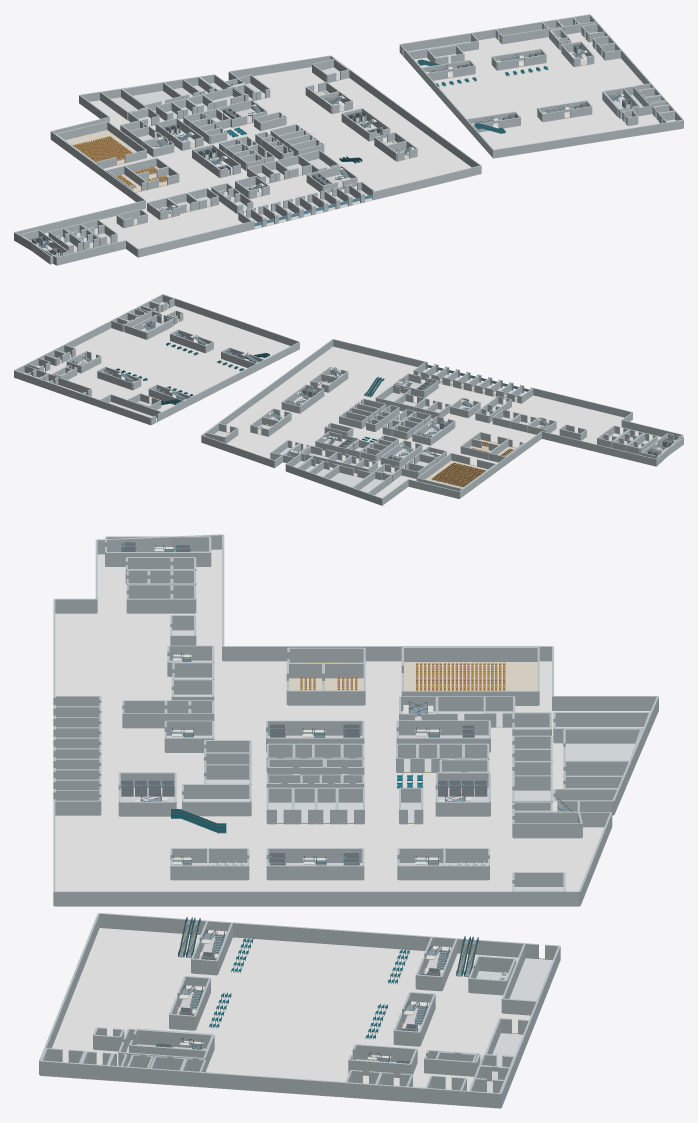
File: nanjing-F1.glb
3 views of the same model, one above another, from view 1: azimuth 30°, elevation 25°; view 2: azimuth 150°, elevation 25°; view 3: azimuth 270°, elevation 25° (orthographic). The views are drawn at different scales.
Parts seen in each view (by area): view 1: Floor slab (×2), wall-26, wall-9, wall-20, wall-10, wall-0, wall-24, wall-1, wall-27, wall-8, wall-22, 图示排座空间 0 (+5 smaller); view 2: Floor slab (×2), wall-27, wall-26, wall-9, wall-0, wall-20, wall-24, wall-10, wall-1, wall-4, wall-25, wall-8 (+5 smaller); view 3: Floor slab (×2), wall-9, wall-27, wall-25, 图示排座空间 0, wall-1, wall-145, wall-61, wall-3, wall-56, wall-80, wall-67 (+21 smaller).
Boxes of the visible parts, <box> form: Floor slab (×2): <box>44,32,682,265</box>; wall-26: <box>493,120,683,158</box>; wall-9: <box>330,55,481,173</box>; wall-20: <box>138,220,254,257</box>; wall-10: <box>372,165,481,200</box>; wall-0: <box>14,200,145,234</box>; wall-24: <box>400,14,589,51</box>; wall-1: <box>50,131,145,207</box>; wall-27: <box>404,49,493,158</box>; wall-8: <box>229,55,330,77</box>; wall-22: <box>56,240,125,265</box>; 图示排座空间 0: <box>66,130,136,164</box>; Floor slab (×2): <box>45,306,675,498</box>; wall-27: <box>157,342,299,421</box>; wall-26: <box>163,294,299,345</box>; wall-9: <box>201,339,333,436</box>; wall-0: <box>542,431,656,466</box>; wall-20: <box>531,387,632,417</box>; wall-24: <box>14,370,150,424</box>; wall-10: <box>333,339,427,368</box>; wall-1: <box>459,431,541,498</box>; wall-4: <box>286,464,382,505</box>; wall-25: <box>14,294,162,370</box>; wall-8: <box>201,435,274,467</box>; Floor slab (×2): <box>40,549,650,1108</box>; wall-9: <box>54,891,579,906</box>; wall-27: <box>99,913,538,958</box>; wall-25: <box>40,1060,500,1108</box>; 图示排座空间 0: <box>404,662,537,690</box>; wall-1: <box>223,646,552,661</box>; wall-145: <box>403,647,538,661</box>; wall-61: <box>267,865,363,880</box>; wall-3: <box>553,696,657,710</box>; wall-56: <box>398,865,488,880</box>; wall-80: <box>554,712,649,726</box>; wall-67: <box>171,865,248,880</box>.
Size of the model in its own units: 271 by 4.28 by 127.
